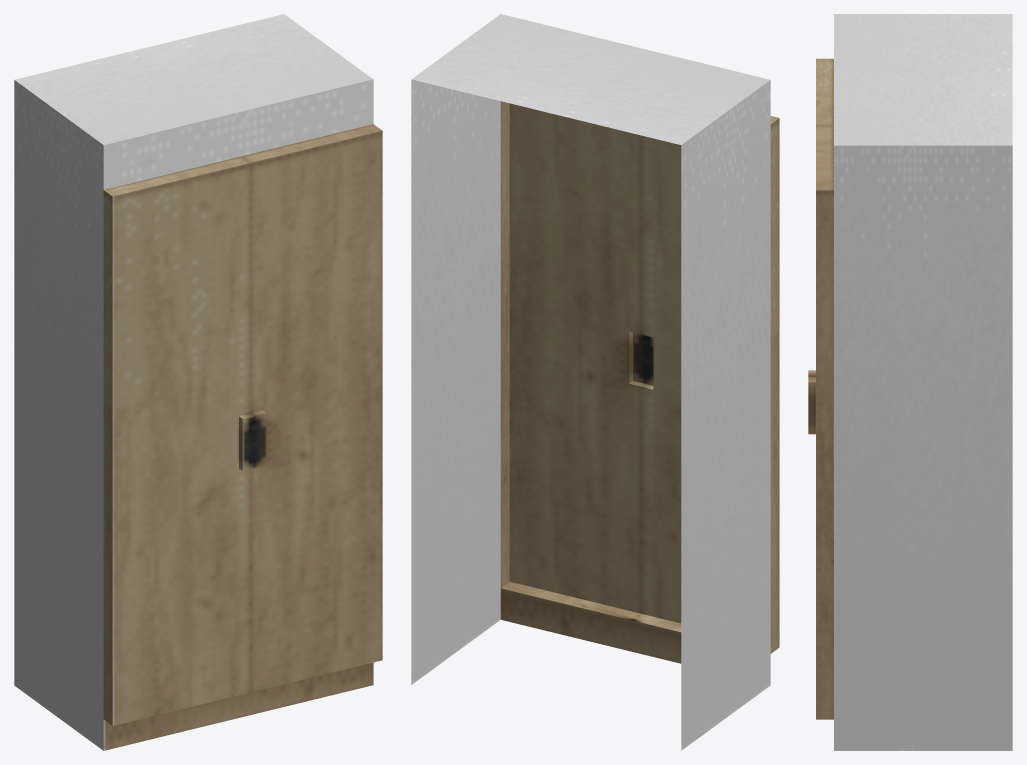
The model's file is Kitchen_Shelf.fbx.
The picture shows the model from 3 angles, left to right: view 1: azimuth 30°, elevation 25°; view 2: azimuth 150°, elevation 25°; view 3: azimuth 270°, elevation 25°; orthographic projection.
Visible parts, largest first — view 1: Cuisine_Armoire.001; view 2: Cuisine_Armoire.001; view 3: Cuisine_Armoire.001.
Part boxes in pixels (box(x1,y1,x2,y2)): Cuisine_Armoire.001: box(14, 14, 382, 750); Cuisine_Armoire.001: box(411, 14, 779, 750); Cuisine_Armoire.001: box(808, 14, 1012, 750).
Size of the model in its own units: 120 by 257 by 78.65.
